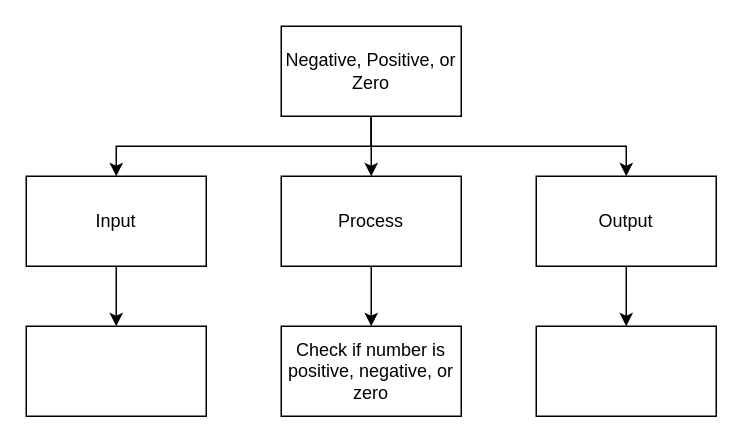
Some shapes in this 743 by 443 pixel diagram are drawn without their labels. The shapes that lost their labels are listed below. From the top down, each one's centre as x and y in pixels, then its label:
pixel 115 370: Get Number
pixel 625 370: Show if positive, negative, or zero
